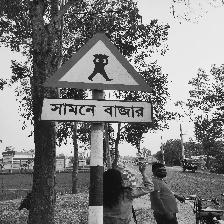Market-in-front: (40, 32, 156, 125)
